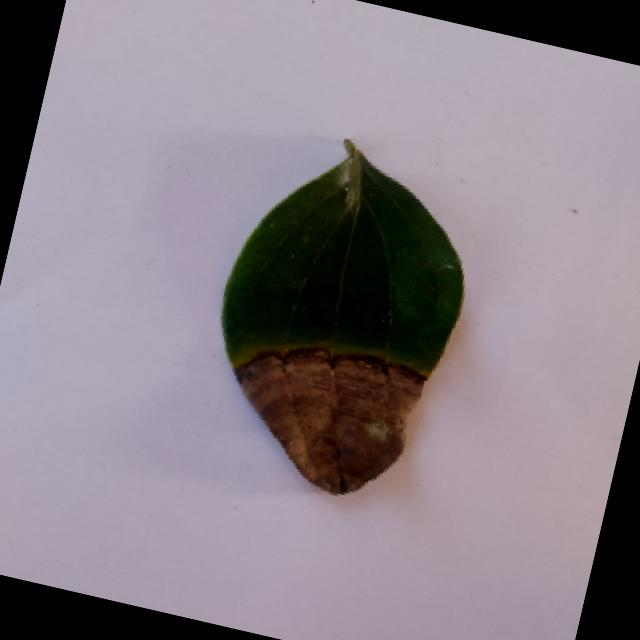footrot: (178, 116, 495, 521)
